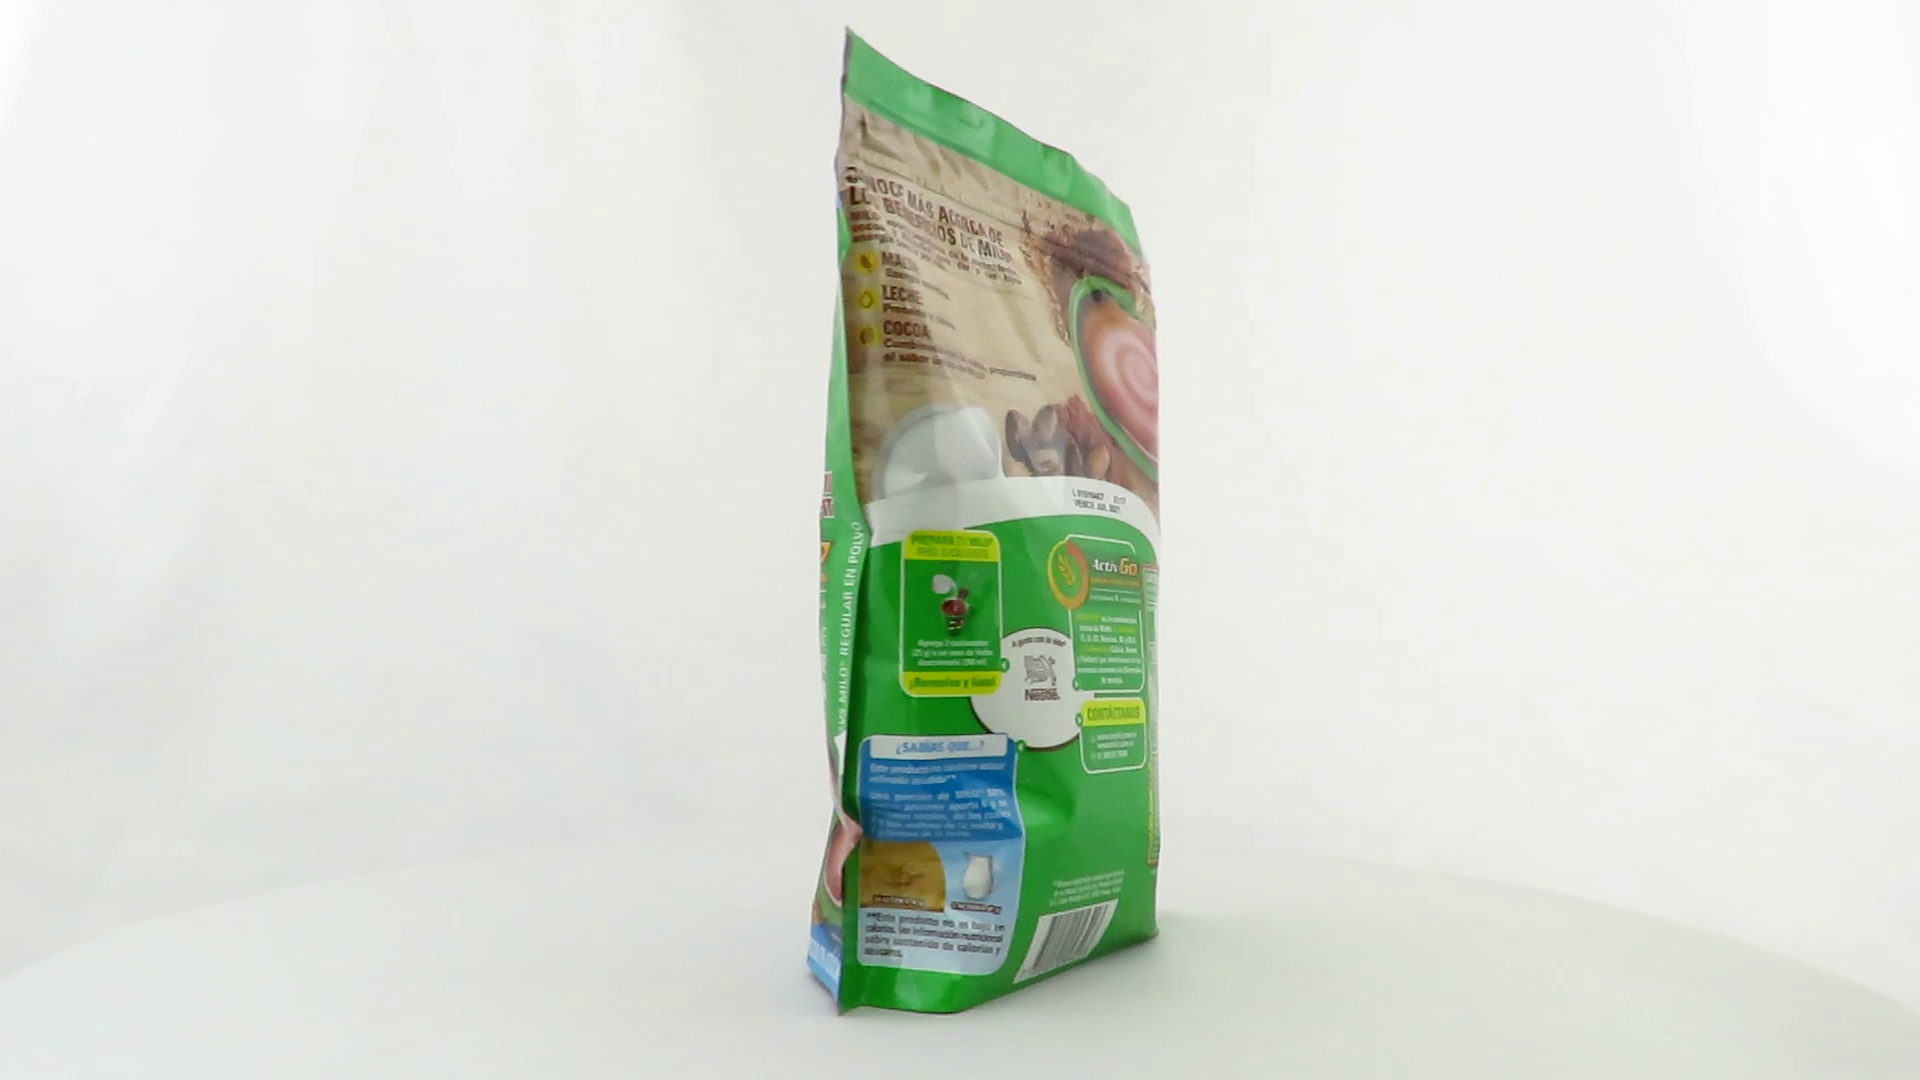COL0170205DYP50000: (800, 21, 1168, 1027)
